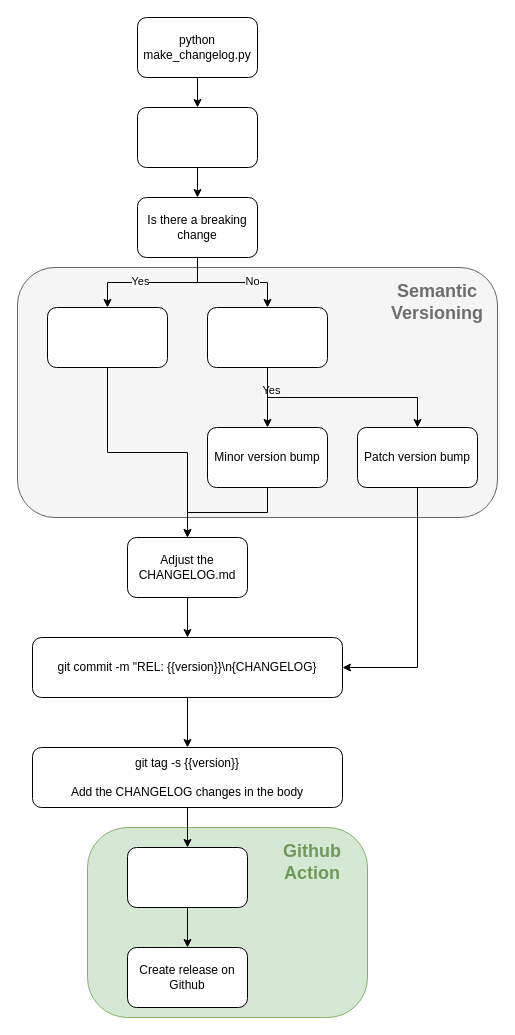
This 515x1035 diagram has some shape labels left out. The shapes that lost their labels are listed below. From the top down, each one's box as (x1, y1, x2, y2) in pixels, then its label:
(136, 106, 258, 168): Manually adjust CHANGELOG.md changes
(46, 306, 168, 368): Major version bump in _version.py
(206, 306, 328, 368): Is there a new feature?
(126, 846, 248, 908): Build and push packages to PyPI
